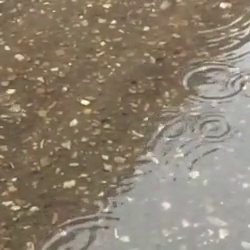drop: (28, 212, 127, 250), (184, 65, 246, 101), (149, 108, 186, 139), (194, 113, 232, 140), (1, 91, 22, 118), (229, 73, 250, 97)
